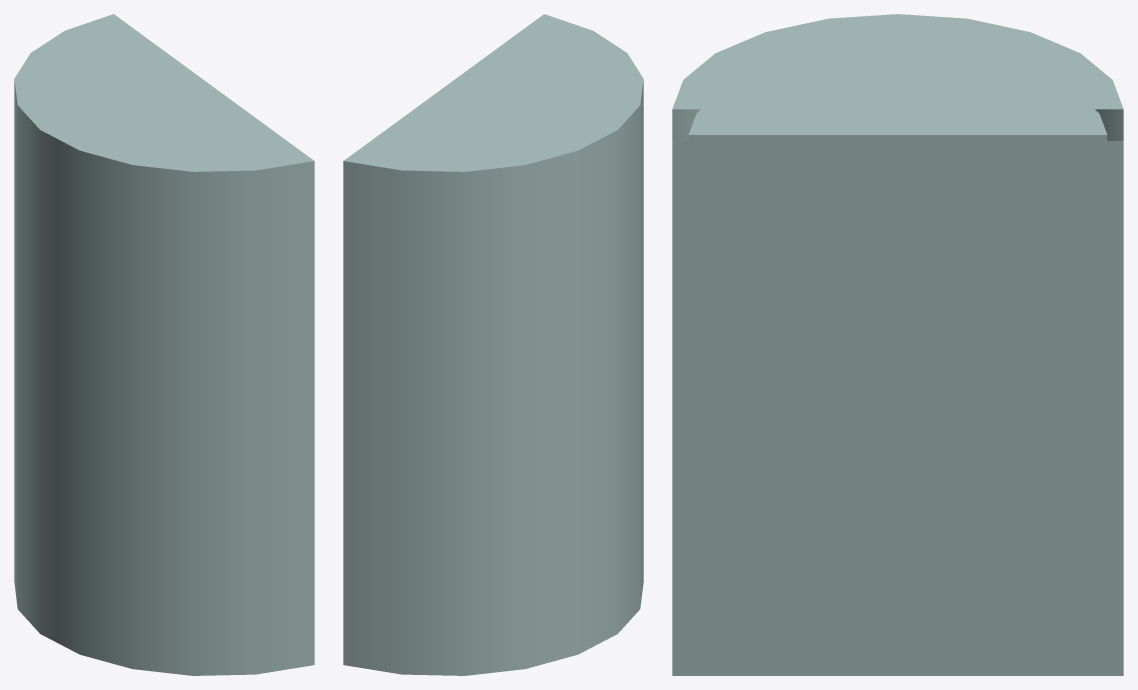
The model's file is CounterRound03Combo.fbx.
3 renders of one model, left to right at view 1: azimuth 30°, elevation 25°; view 2: azimuth 150°, elevation 25°; view 3: azimuth 270°, elevation 25°, orthographic. The views are drawn at different scales.
Parts seen in each view (by area): view 1: pasted__pCylinder1; view 2: pasted__pCylinder1; view 3: pasted__pCylinder1.
Boxes of the visible parts, x1,y1,x2,y2 form: pasted__pCylinder1: (14, 14, 314, 675); pasted__pCylinder1: (343, 14, 643, 675); pasted__pCylinder1: (672, 14, 1123, 675).
Size of the model in its own units: 325 by 900 by 650.
